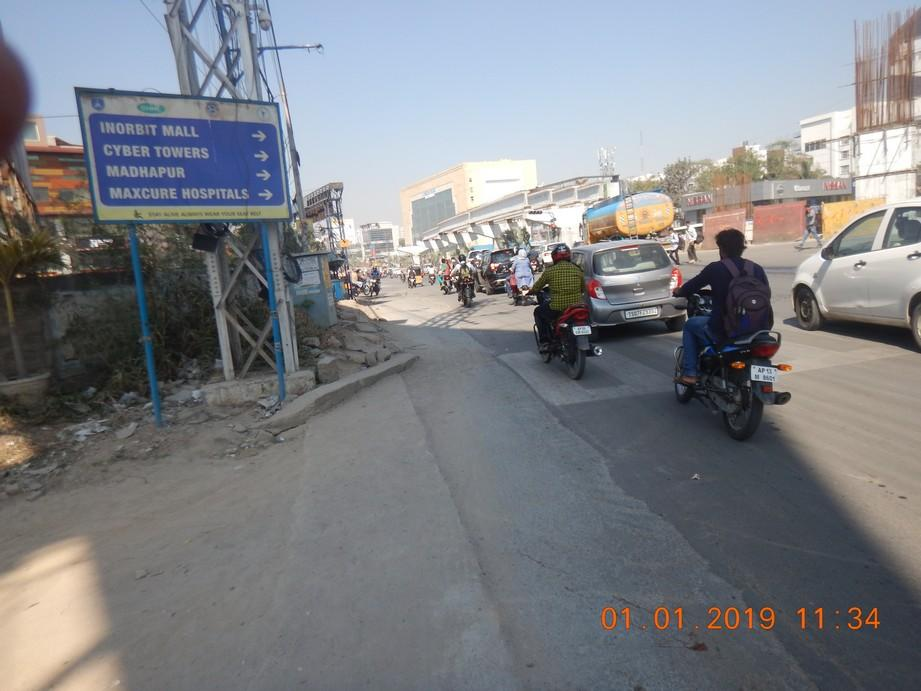plate: (751, 365, 777, 383), (571, 325, 593, 335)
